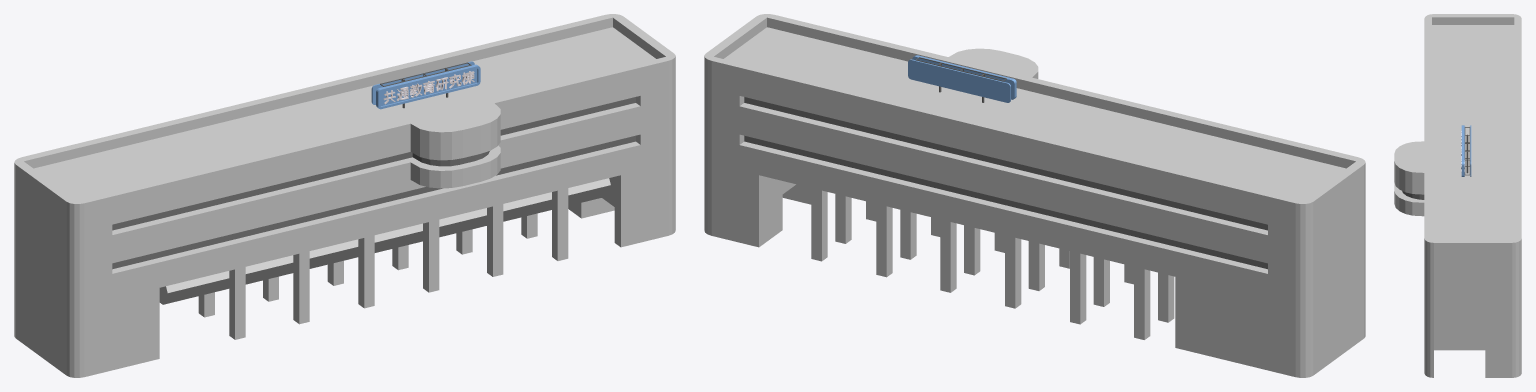
Rendered from map_education.glb.
3 views of the same model, side by side, from view 1: azimuth 30°, elevation 25°; view 2: azimuth 150°, elevation 25°; view 3: azimuth 270°, elevation 25° (orthographic). The views are drawn at different scales.
Visible parts, largest first — view 1: 共通教育研究棟, 空中廊下, Cube.012, 共通教育棟柱1, 共通教育棟柱3, 共通教育棟柱5, 共通教育棟柱4, 共通教育棟柱6, 共通教育棟柱2, テキスト.008; view 2: 共通教育研究棟, Cube.013, 共通教育棟柱7, 共通教育棟柱9, 共通教育棟柱8, 共通教育棟柱10, 共通教育棟柱12, 共通教育棟柱11, 共通教育棟柱15, 共通教育棟柱16, 共通教育棟柱18, 共通教育棟柱17 (+3 smaller); view 3: 共通教育研究棟, Cube.012.
Boxes of the visible parts, left/top/right/bottom form: 共通教育研究棟: left=14, top=14, right=675, bottom=377; 空中廊下: left=159, top=178, right=610, bottom=304; Cube.012: left=376, top=64, right=480, bottom=109; 共通教育棟柱1: left=229, top=267, right=245, bottom=339; 共通教育棟柱3: left=358, top=235, right=374, bottom=308; 共通教育棟柱5: left=487, top=204, right=503, bottom=276; 共通教育棟柱4: left=423, top=219, right=439, bottom=292; 共通教育棟柱6: left=552, top=188, right=568, bottom=260; 共通教育棟柱2: left=293, top=251, right=309, bottom=324; テキスト.008: left=383, top=71, right=474, bottom=104; 共通教育研究棟: left=704, top=14, right=1365, bottom=377; Cube.013: left=908, top=59, right=1010, bottom=102; 共通教育棟柱7: left=811, top=188, right=827, bottom=261; 共通教育棟柱9: left=940, top=219, right=956, bottom=292; 共通教育棟柱8: left=876, top=204, right=892, bottom=277; 共通教育棟柱10: left=1005, top=235, right=1021, bottom=308; 共通教育棟柱12: left=1134, top=267, right=1150, bottom=339; 共通教育棟柱11: left=1070, top=251, right=1086, bottom=324; 共通教育棟柱15: left=1093, top=257, right=1109, bottom=306; 共通教育棟柱16: left=1028, top=241, right=1044, bottom=290; 共通教育棟柱18: left=900, top=209, right=916, bottom=259; 共通教育棟柱17: left=964, top=225, right=980, bottom=275; 共通教育研究棟: left=1394, top=14, right=1521, bottom=377; Cube.012: left=1461, top=125, right=1464, bottom=176.
Bounding box in the file's own units: 65.98 × 20.07 × 15.51.
